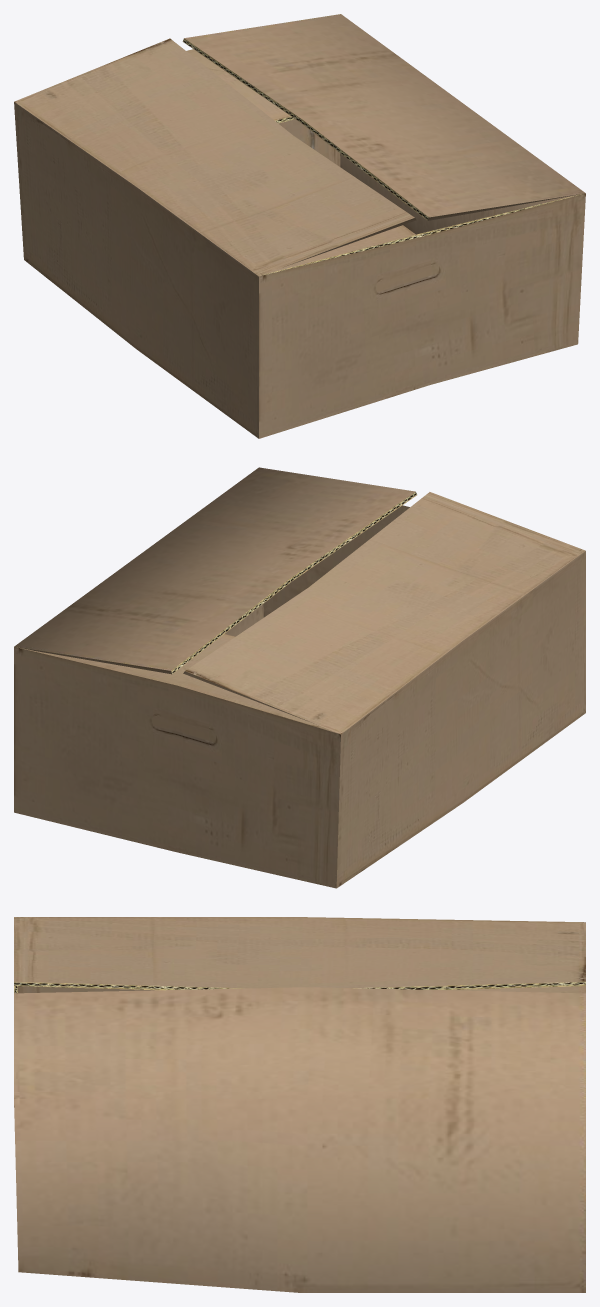
Rendered from SM_Cardboard_Box_06.glb.
3 views of the same model, one above another, from view 1: azimuth 30°, elevation 25°; view 2: azimuth 150°, elevation 25°; view 3: azimuth 270°, elevation 25° (orthographic). The views are drawn at different scales.
Parts seen in each view (by area): view 1: SM_Cardboard_Box_06; view 2: SM_Cardboard_Box_06; view 3: SM_Cardboard_Box_06.
Boxes of the visible parts, x1,y1,x2,y2 form: SM_Cardboard_Box_06: (14,14,585,438); SM_Cardboard_Box_06: (14,467,585,888); SM_Cardboard_Box_06: (14,917,585,1292).
Bounding box in the file's own units: 0.4001 × 0.2166 × 0.519.
Materials: 1 (1 with a texture image).
